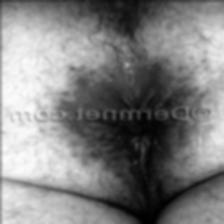Toxin: (48, 47, 200, 207)
